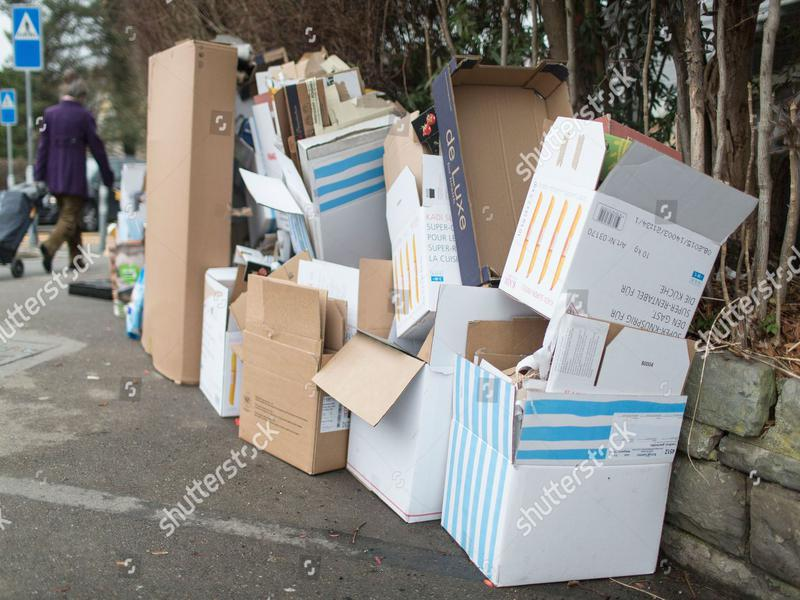cardboard: (438, 318, 696, 589), (491, 107, 758, 338), (123, 32, 242, 394), (238, 47, 408, 263), (417, 58, 573, 290), (232, 262, 367, 487), (325, 308, 455, 527), (369, 109, 488, 334)
